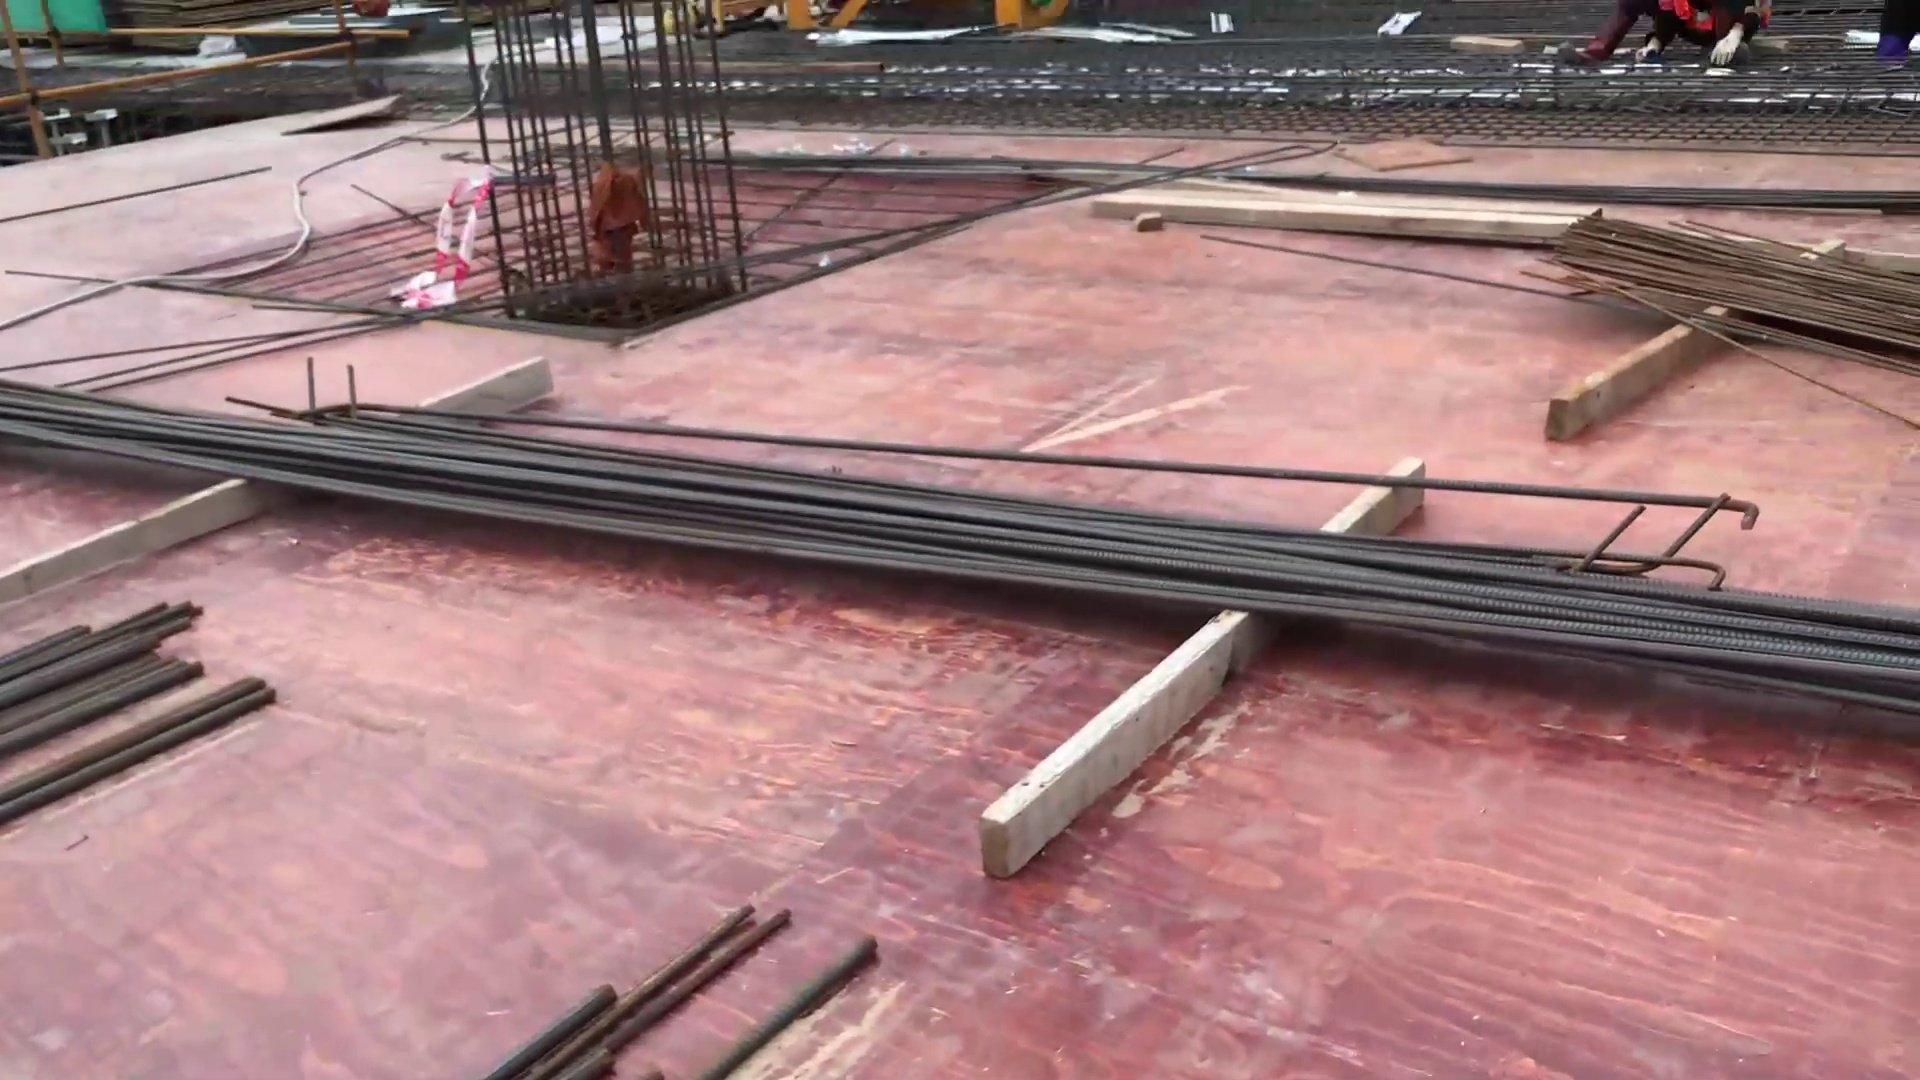rebar: (29, 324, 1920, 761), (1487, 127, 1920, 369)
